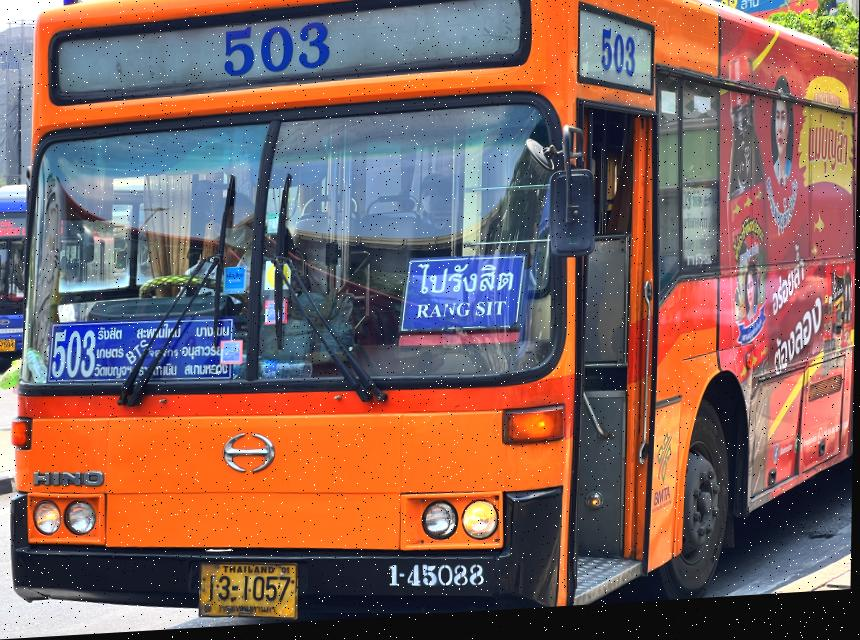BMTA-bus: (11, 0, 859, 624)
Bus Line Number: (208, 12, 341, 88)
Bus Side Number: (382, 558, 490, 603)
Destination Sign: (402, 253, 525, 338)
